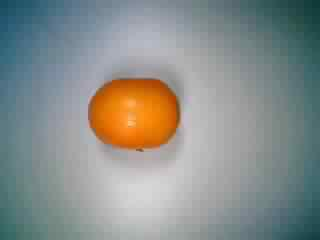orange: (87, 72, 180, 156)
